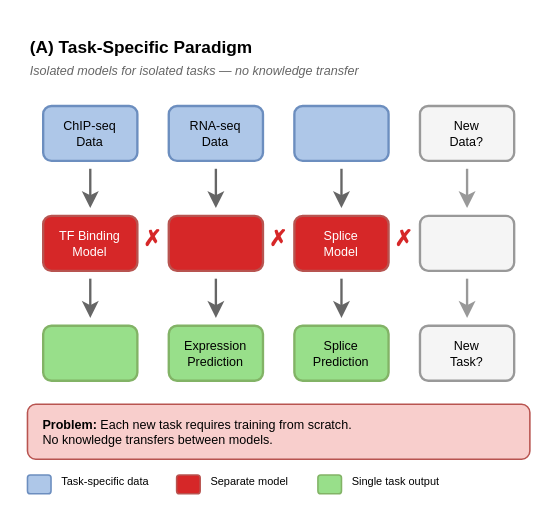
Image size: 557x521. Some labels were removed from this diagram. Here are the shapes that lost their labels. From the top down, the centre of each, then its label:
point 340,132: Splice Data
point 215,242: Expression Model
point 466,242: New Model?
point 89,352: TF Binding Prediction
